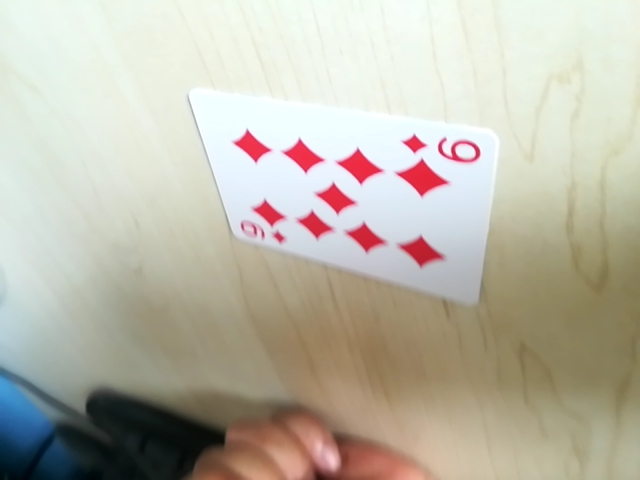fk 9: (398, 128, 488, 165), (233, 216, 288, 248)
